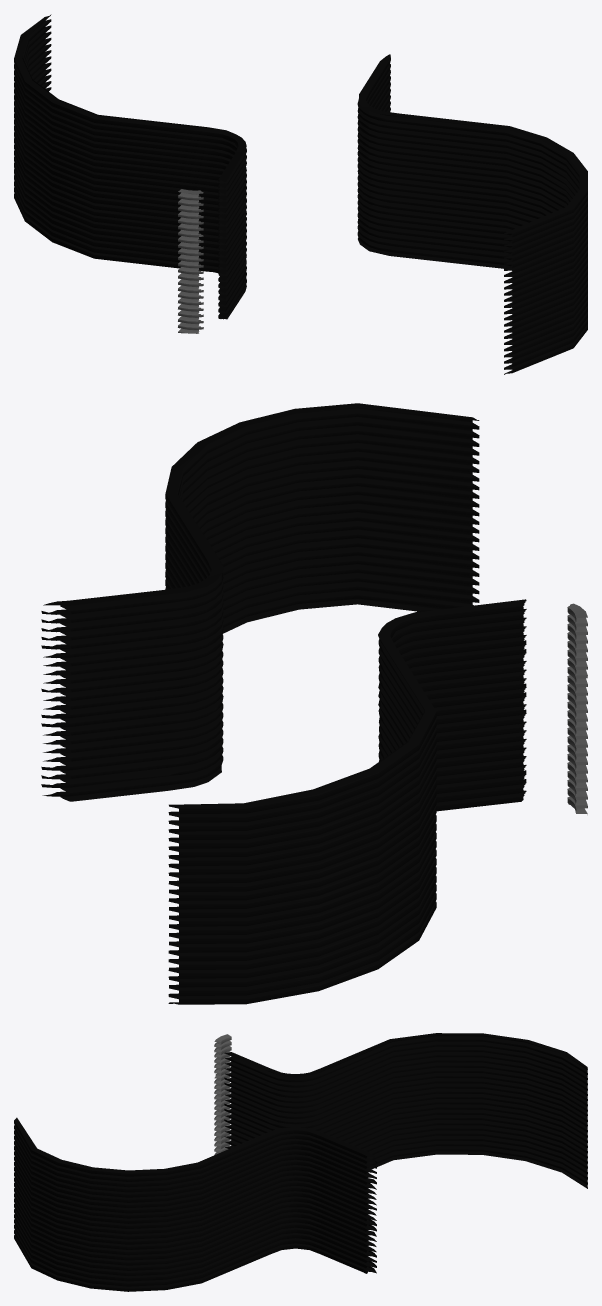
The model's file is Shelf 2.fbx.
3 views of the same model, one above another, from view 1: azimuth 30°, elevation 25°; view 2: azimuth 150°, elevation 25°; view 3: azimuth 270°, elevation 25° (orthographic). The views are drawn at different scales.
Parts seen in each view (by area): view 1: Shelve_2; view 2: Shelve_2; view 3: Shelve_2.
Boxes of the visible parts, x1,y1,x2,y2 form: Shelve_2: [14, 14, 587, 374]; Shelve_2: [41, 403, 587, 1004]; Shelve_2: [14, 1033, 587, 1291].
Bounding box in the file's own units: 3205 × 1283 × 5536.
